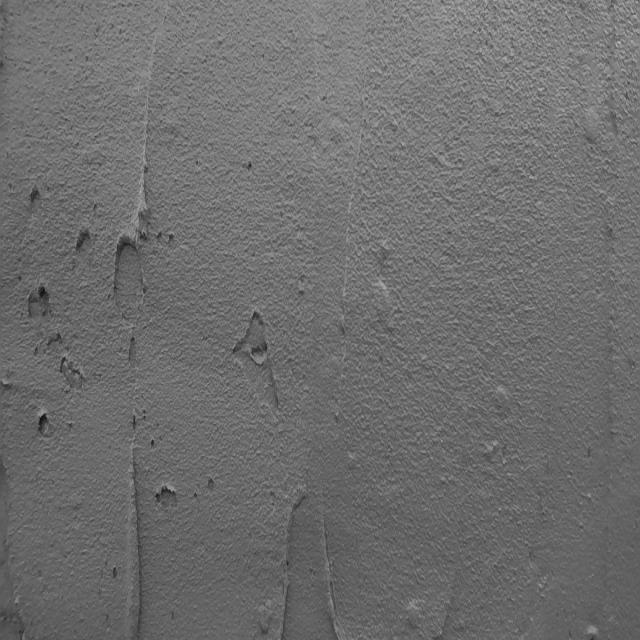trowels marks: (116, 445, 150, 640), (136, 31, 162, 230), (274, 474, 303, 640), (321, 498, 347, 640)
